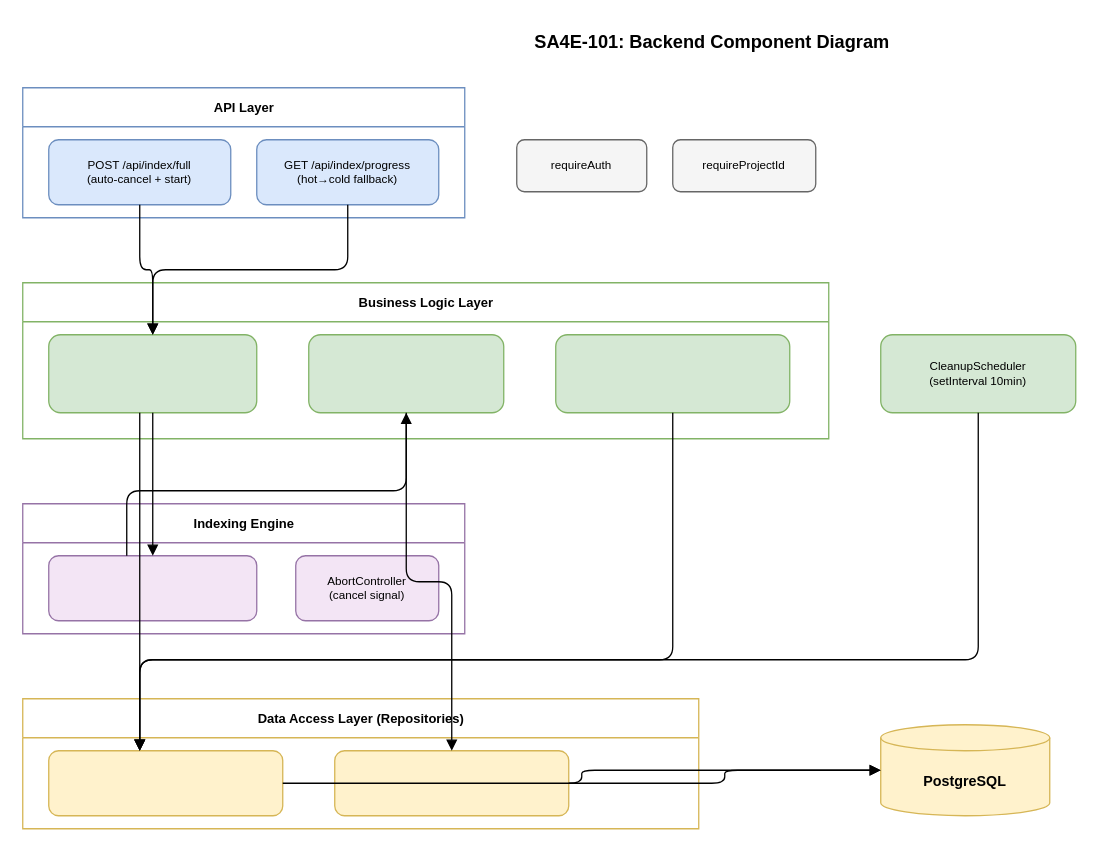
The diagram is 1099 pixels wide and 851 high, and some of its shapes have lost their labels. The centre of each missing label's shape, as x and y in pixels:
ChecksumService (SHA-256 + compare): pixel 405 373
FileChecksumRepository (CRUD file_checksums): pixel 451 782
IndexingEngine (file loop + checksum skip): pixel 152 587
IndexOperationManager (composite Map key): pixel 152 373
IndexOperationRepository (CRUD index_operations): pixel 165 782
StartupInterruptDetector (server boot hook): pixel 672 373
